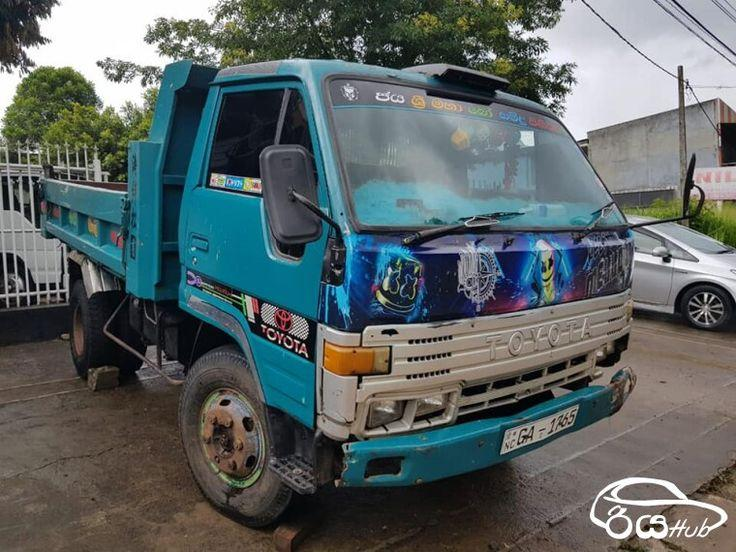car: (627, 214, 736, 332)
truck: (39, 59, 634, 530)
